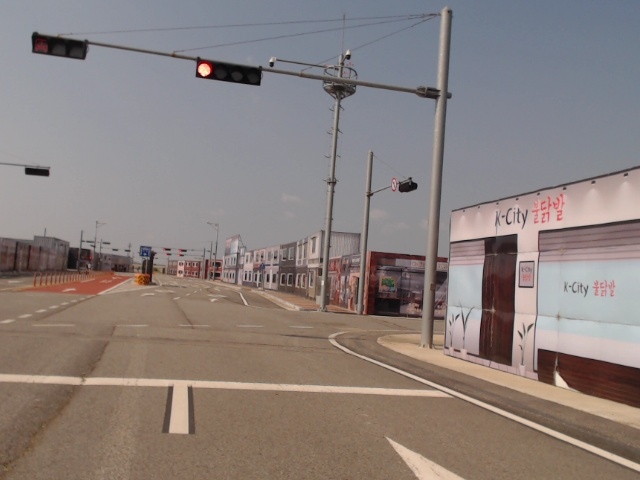red_4: (195, 57, 261, 86)
